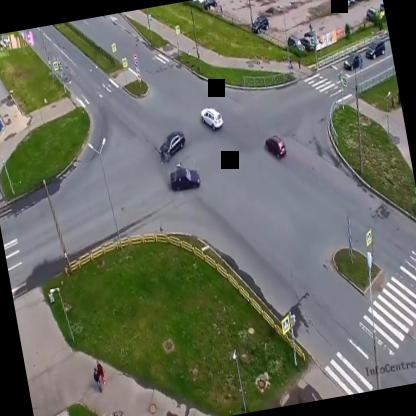accident: (152, 124, 213, 209)
